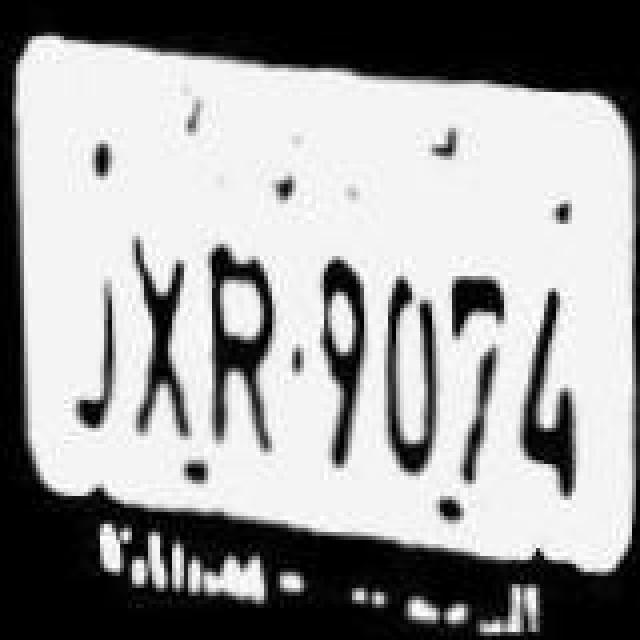4: (510, 276, 590, 508)
7: (438, 250, 514, 494)
9: (314, 248, 390, 484)
J: (58, 236, 126, 476)
O: (378, 260, 446, 484)
R: (198, 230, 290, 474)
X: (120, 224, 208, 452)
